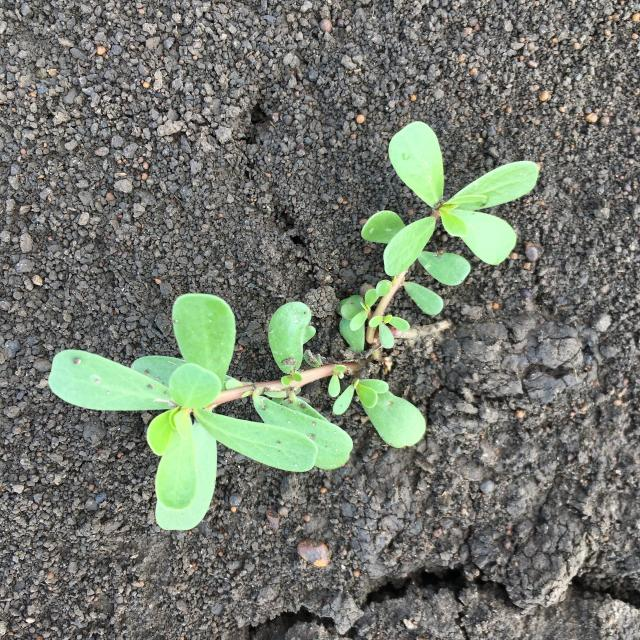Purslane: (49, 121, 539, 531)
